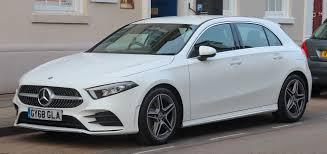mercedes: (38, 86, 53, 107)
